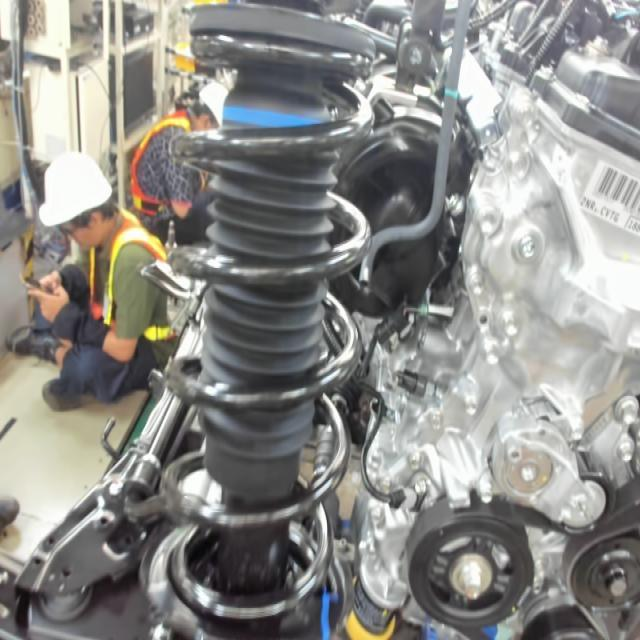Bumper-BR: (219, 101, 330, 137)
Hose Canister-HJ: (444, 85, 458, 101)
